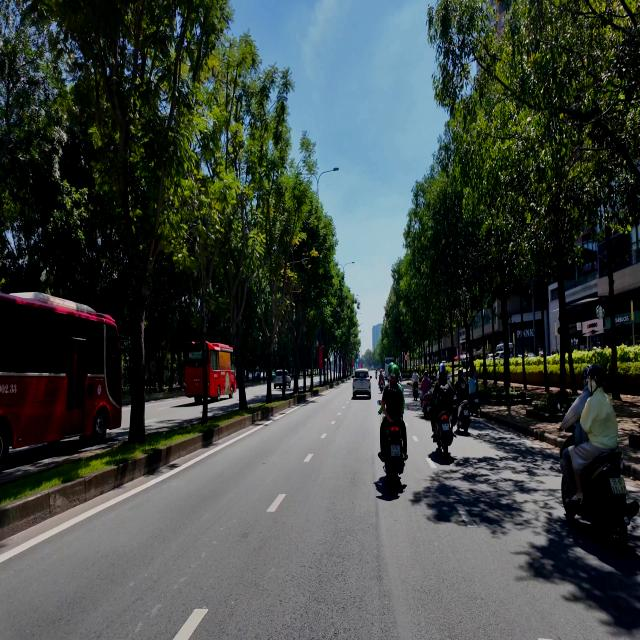car: (353, 369, 371, 398), (273, 370, 291, 388)
motorcycle: (561, 451, 639, 549), (378, 400, 405, 490), (436, 411, 454, 456), (457, 400, 470, 434), (470, 391, 480, 418), (422, 390, 431, 419), (413, 382, 419, 400), (379, 375, 384, 392)
